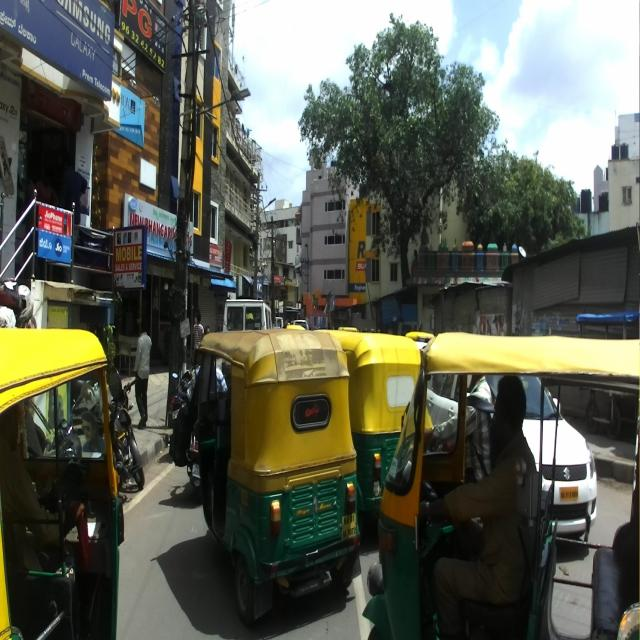autorickshaw: (362, 332, 640, 639), (190, 328, 361, 629), (0, 326, 125, 640), (313, 328, 421, 551)
